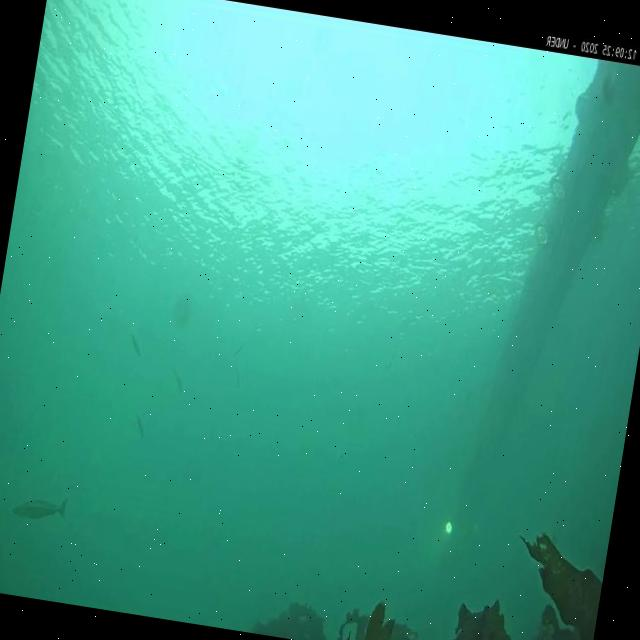fish: (8, 489, 70, 528), (169, 364, 186, 394), (128, 332, 145, 361), (232, 336, 248, 359), (134, 414, 148, 439), (232, 368, 243, 392)
